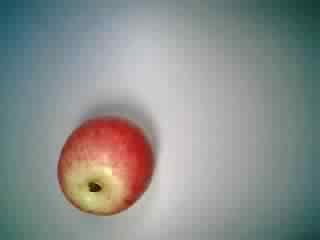apple: (56, 117, 162, 216)
